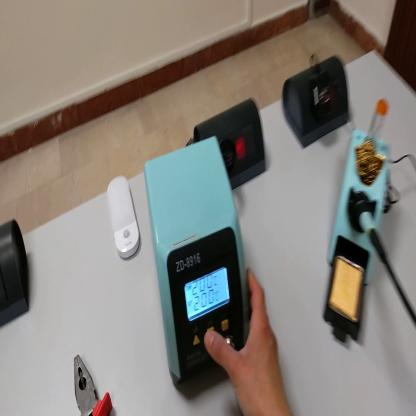hand: (206, 265, 287, 414)
pliers: (73, 355, 113, 416)
socket: (189, 95, 271, 193), (281, 56, 352, 151)
welder base: (322, 102, 398, 346)
welder probe tip: (360, 201, 389, 264)
welder station: (143, 141, 249, 386)
